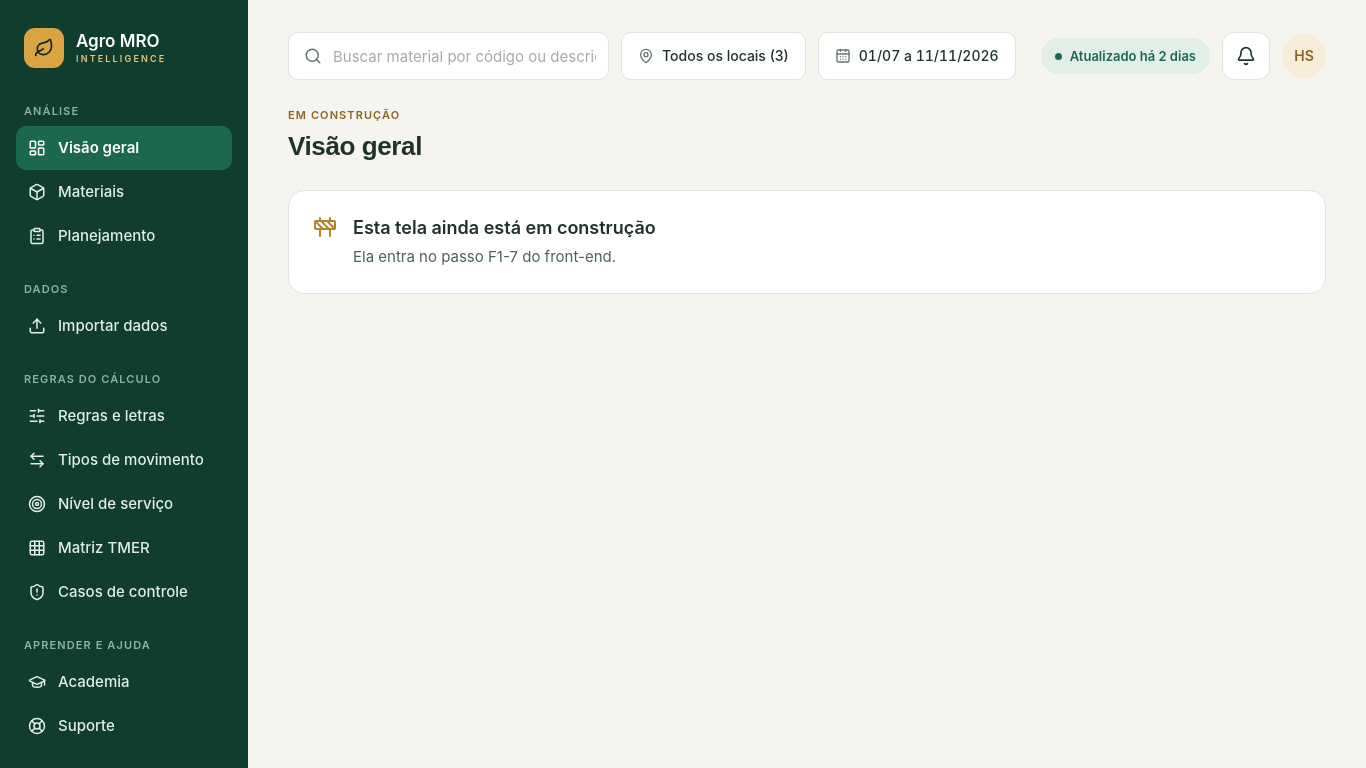
Test: BuscaGlobal › Nada encontrado
The image size is (1366, 768).
Type "xyzw" into the dropdown named "Buscar material ou tela". click: (449, 56)
box: [288,32,609,80]
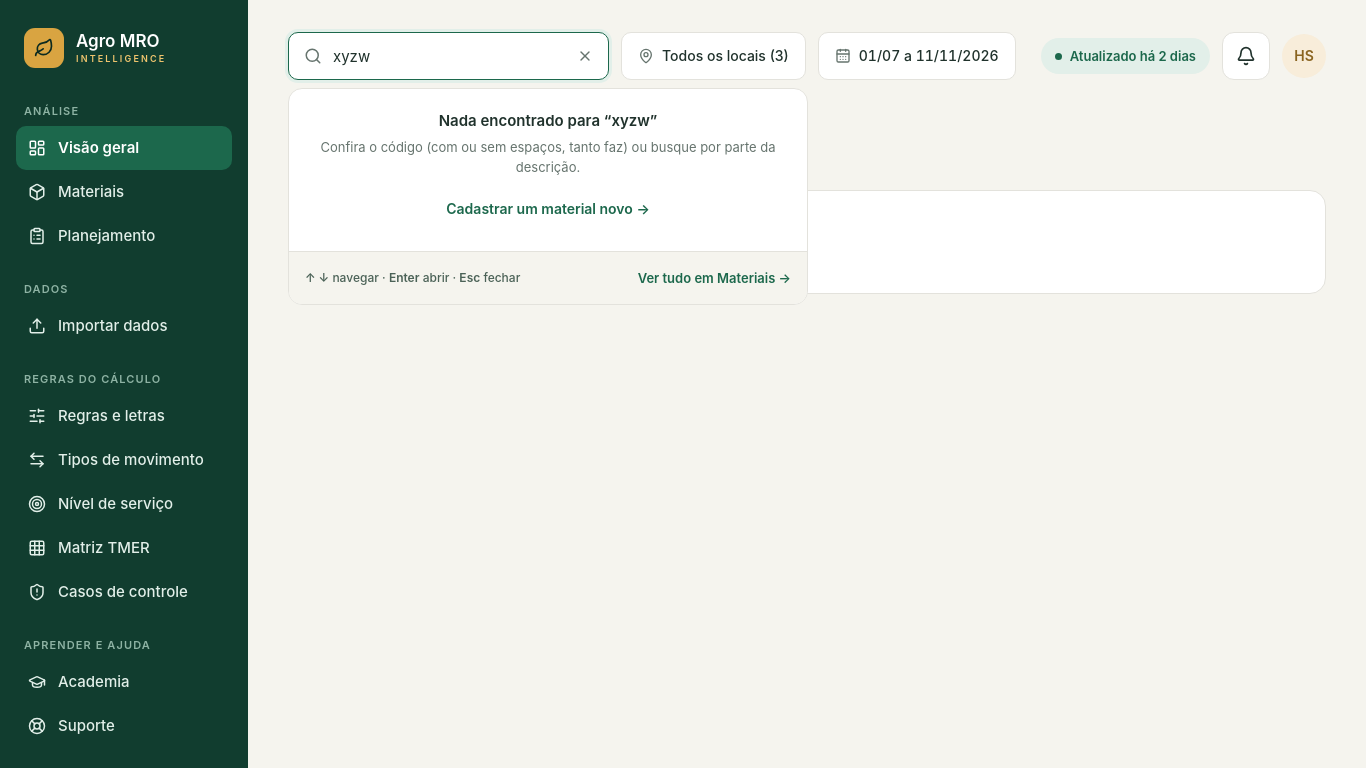
Now the text "Nada encontrado para “xyzw”" is shown, box [439,111,657,130]
Now the text "Confira o código (com ou sem espaços, tanto faz) ou busque por parte da descrição." is shown, box [320,139,776,175]
